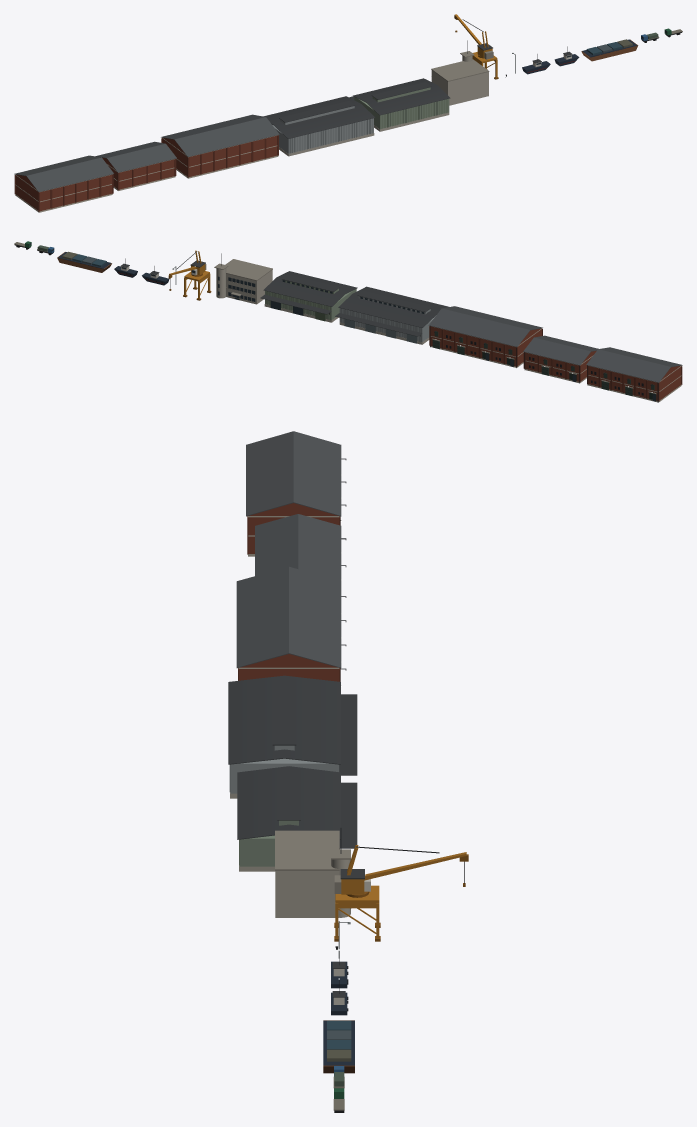
Rendered from port.glb.
The picture shows the model from 3 angles, top to bottom: view 1: azimuth 30°, elevation 25°; view 2: azimuth 150°, elevation 25°; view 3: azimuth 270°, elevation 25°; orthographic projection. The views are drawn at different scales.
Parts seen in each view (by area): view 1: port_soko_c_body, port_shed_a_body, port_soko_a_body, port_shed_b_body, port_soko_b_body, port_office_body, port_barge_body, port_crane_body; view 2: port_soko_c_body, port_shed_a_body, port_soko_a_body, port_shed_b_body, port_soko_b_body, port_office_body, port_crane_body, port_barge_body; view 3: port_shed_a_body, port_soko_c_body, port_shed_b_body, port_soko_a_body, port_office_body, port_soko_b_body, port_crane_body, port_barge_body.
Boxes of the visible parts, bbox=[...] form: port_soko_c_body: bbox=[161, 114, 279, 178]; port_shed_a_body: bbox=[263, 96, 375, 156]; port_soko_a_body: bbox=[14, 155, 113, 212]; port_shed_b_body: bbox=[349, 78, 450, 131]; port_soko_b_body: bbox=[95, 141, 176, 190]; port_office_body: bbox=[431, 40, 489, 105]; port_barge_body: bbox=[581, 39, 638, 61]; port_crane_body: bbox=[454, 14, 498, 79]; port_soko_c_body: bbox=[428, 306, 542, 367]; port_shed_a_body: bbox=[335, 286, 448, 344]; port_soko_a_body: bbox=[586, 347, 682, 402]; port_shed_b_body: bbox=[260, 271, 357, 322]; port_soko_b_body: bbox=[523, 335, 598, 383]; port_office_body: bbox=[214, 253, 272, 304]; port_crane_body: bbox=[168, 250, 211, 300]; port_barge_body: bbox=[57, 251, 111, 272]; port_shed_a_body: bbox=[228, 675, 357, 798]; port_soko_c_body: bbox=[236, 566, 346, 686]; port_shed_b_body: bbox=[237, 766, 357, 871]; port_soko_a_body: bbox=[246, 431, 346, 556]; port_office_body: bbox=[275, 828, 350, 917]; port_soko_b_body: bbox=[255, 514, 346, 580]; port_crane_body: bbox=[334, 845, 468, 941]; port_barge_body: bbox=[323, 1020, 354, 1073].
Bounding box in the file's own units: 327 × 22.2 × 52.9.
